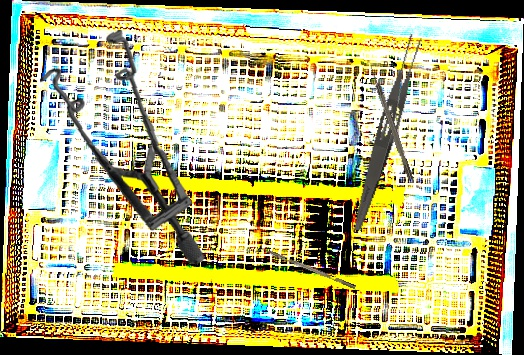Chopper: (254, 244, 357, 294)
Dressing Forceps: (349, 31, 427, 235)
Hook Surgical: (368, 64, 414, 181)
Speculum: (27, 24, 221, 265)
